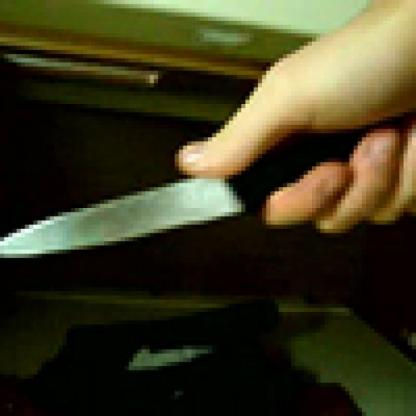Knife: (4, 112, 416, 275)
